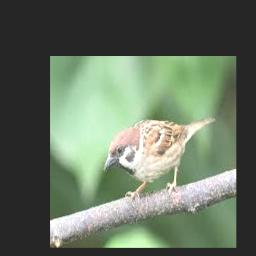Sparrow: (104, 117, 217, 200)
